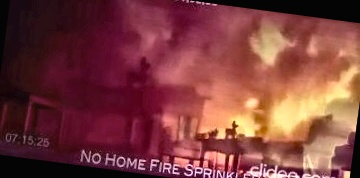fire: (127, 0, 360, 176)
